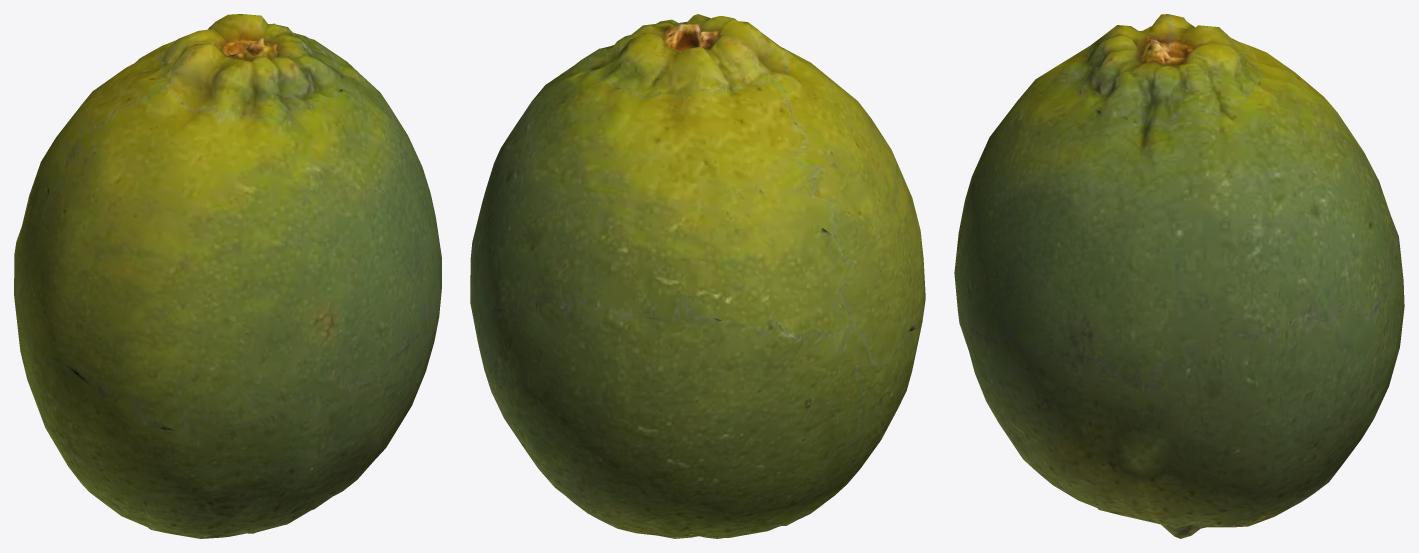
The model's file is food_lime_01.glb.
The picture shows the model from 3 angles, left to right: view 1: azimuth 30°, elevation 25°; view 2: azimuth 150°, elevation 25°; view 3: azimuth 270°, elevation 25°; orthographic projection.
Parts seen in each view (by area): view 1: food_lime_01; view 2: food_lime_01; view 3: food_lime_01.
Boxes of the visible parts, x1,y1,x2,y2 form: food_lime_01: [14, 14, 441, 538]; food_lime_01: [470, 14, 925, 538]; food_lime_01: [954, 14, 1404, 538].
Bounding box in the file's own units: 0.0601 × 0.0754 × 0.0613.
1 material, 1 textured.
